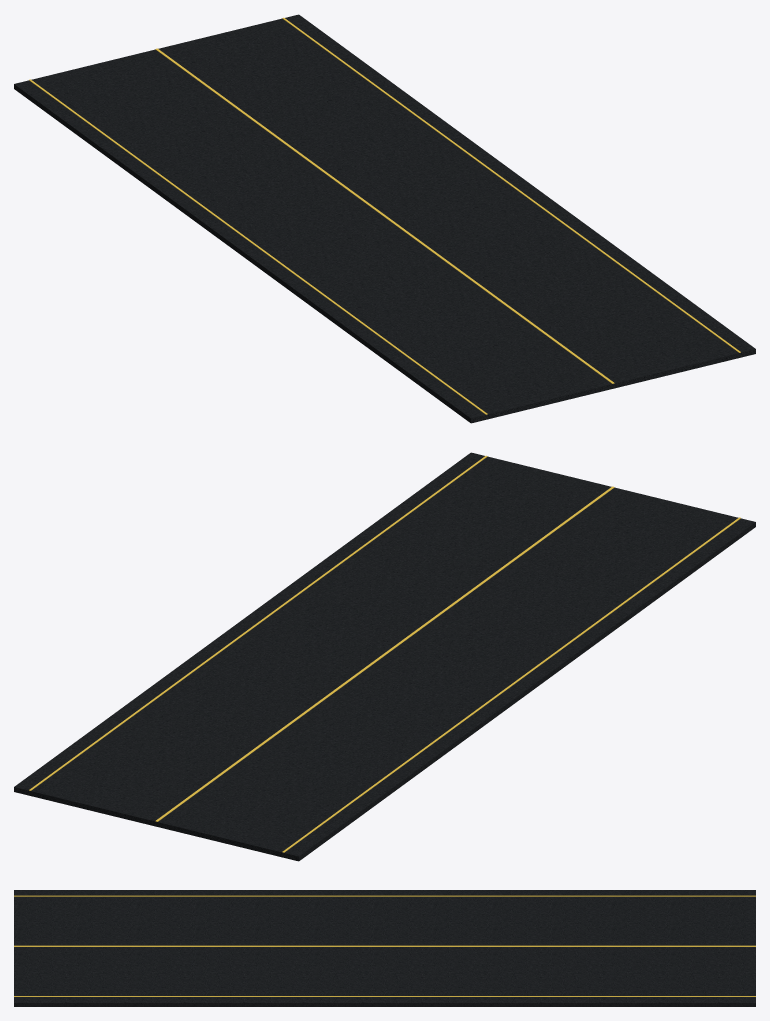
The model's file is Taxiway_Straight_18x50_LOD2.glb.
The picture shows the model from 3 angles, top to bottom: view 1: azimuth 30°, elevation 25°; view 2: azimuth 150°, elevation 25°; view 3: azimuth 270°, elevation 25°; orthographic projection. The views are drawn at different scales.
Parts seen in each view (by area): view 1: Taxiway_Straight_18x50_export; view 2: Taxiway_Straight_18x50_export; view 3: Taxiway_Straight_18x50_export.
Boxes of the visible parts, x1,y1,x2,y2 form: Taxiway_Straight_18x50_export: [14, 14, 755, 423]; Taxiway_Straight_18x50_export: [14, 452, 755, 861]; Taxiway_Straight_18x50_export: [14, 890, 755, 1006].
Size of the model in its own units: 18 by 0.33 by 50.
Materials: 2 (1 with a texture image).
